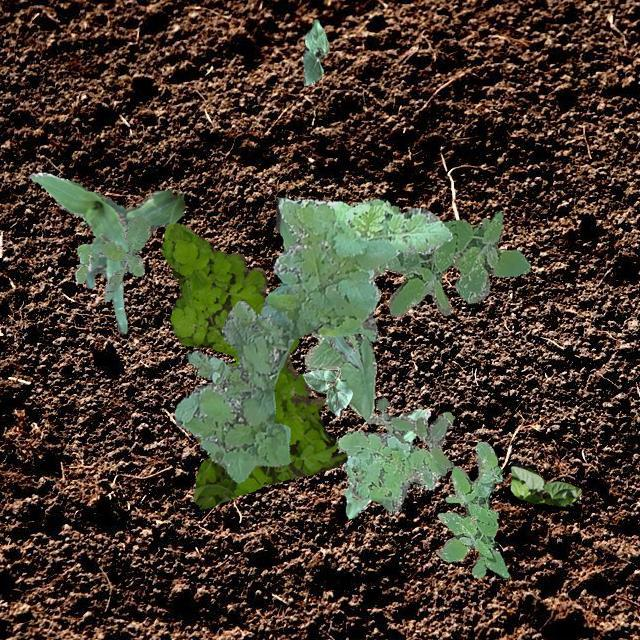crop: (28, 172, 184, 332), (274, 196, 362, 370), (344, 408, 429, 518), (304, 330, 376, 420), (510, 462, 580, 506), (302, 368, 352, 416), (302, 19, 328, 84)
weed: (174, 198, 452, 482), (160, 222, 347, 508), (374, 204, 530, 316), (434, 440, 508, 578), (334, 429, 446, 512), (74, 214, 150, 300), (364, 398, 452, 468)
